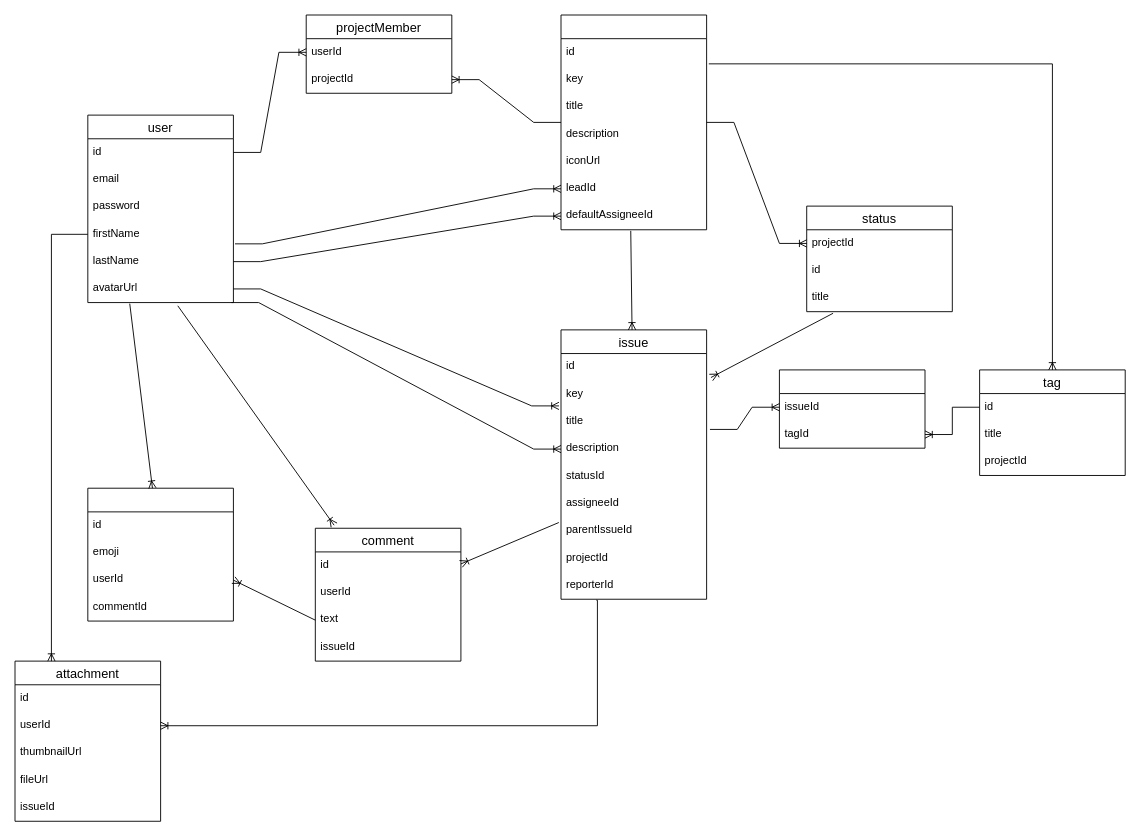
Image size: 1140x836. Some labels were removed from this diagram. Each missing label, with the box of its shape:
issueTag: (779, 369, 925, 448)
project: (560, 14, 707, 230)
reaction: (87, 487, 233, 621)
